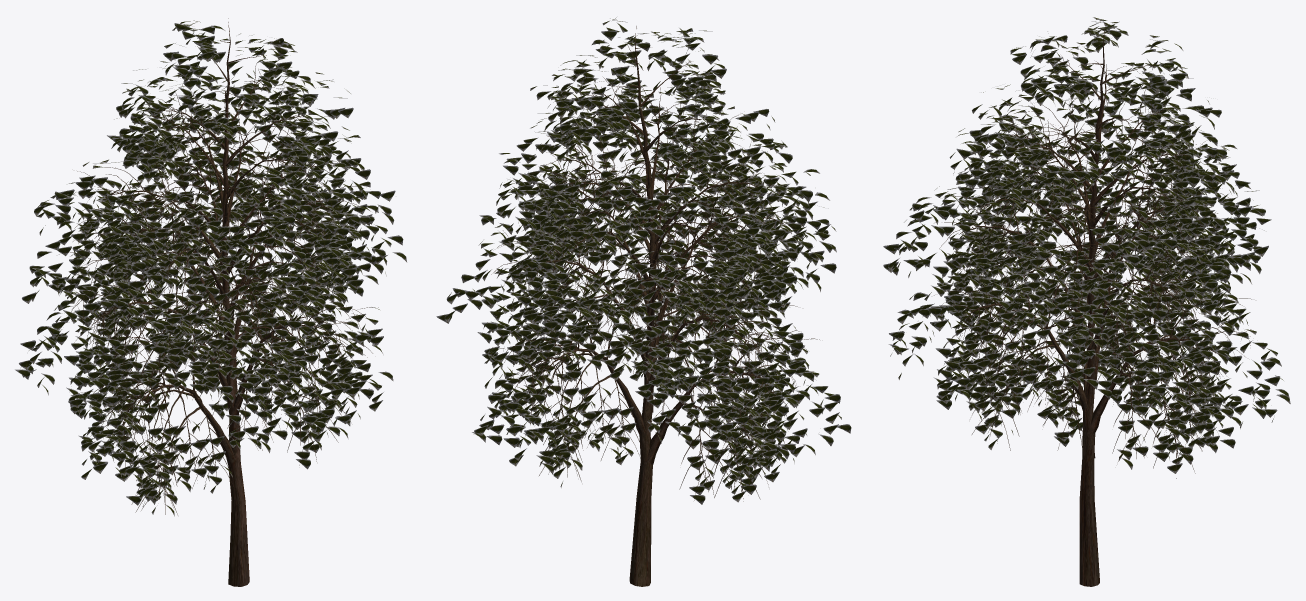
The model's file is tree.glb.
3 renders of one model, left to right at view 1: azimuth 30°, elevation 25°; view 2: azimuth 150°, elevation 25°; view 3: azimuth 270°, elevation 25°, orthographic.
Parts seen in each view (by area): view 1: obj0; view 2: obj0; view 3: obj0.
Part boxes in pixels (x1=…): obj0: x1=15, y1=18, x2=406, y2=586; obj0: x1=436, y1=17, x2=851, y2=586; obj0: x1=883, y1=17, x2=1290, y2=586.
Size of the model in its own units: 10.14 by 15.83 by 10.45.
Materials: 5 (5 with a texture image).
